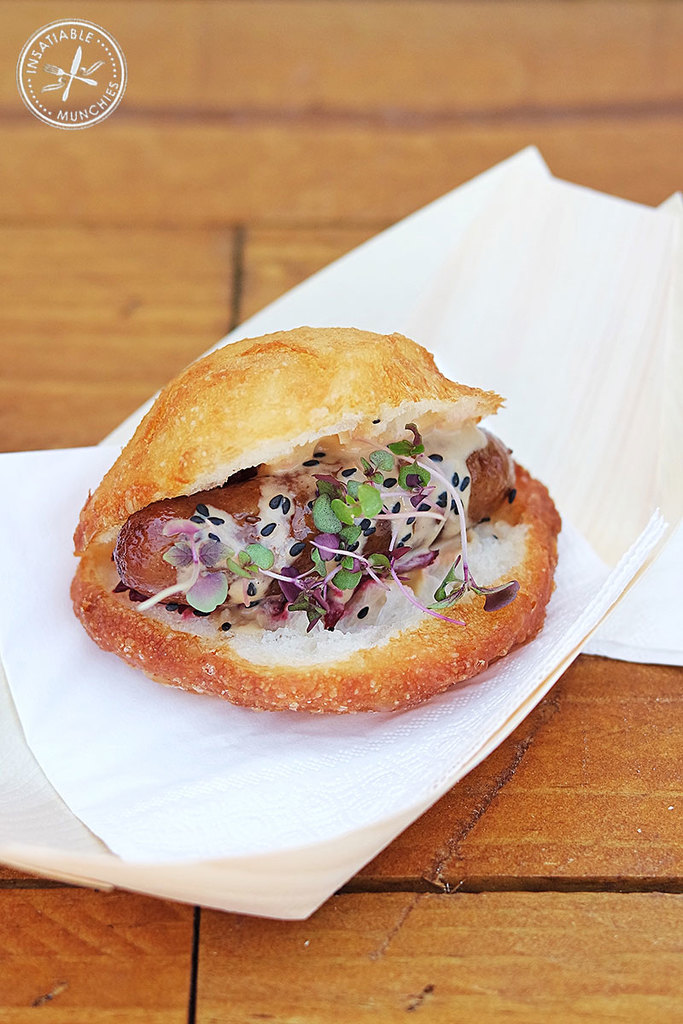sandwich: (65, 318, 563, 713)
